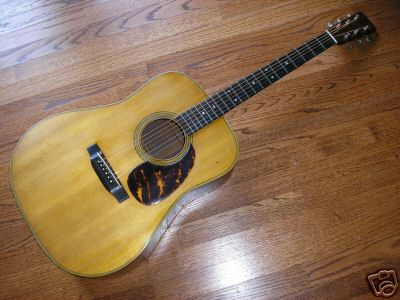guitar: (7, 12, 379, 282)
